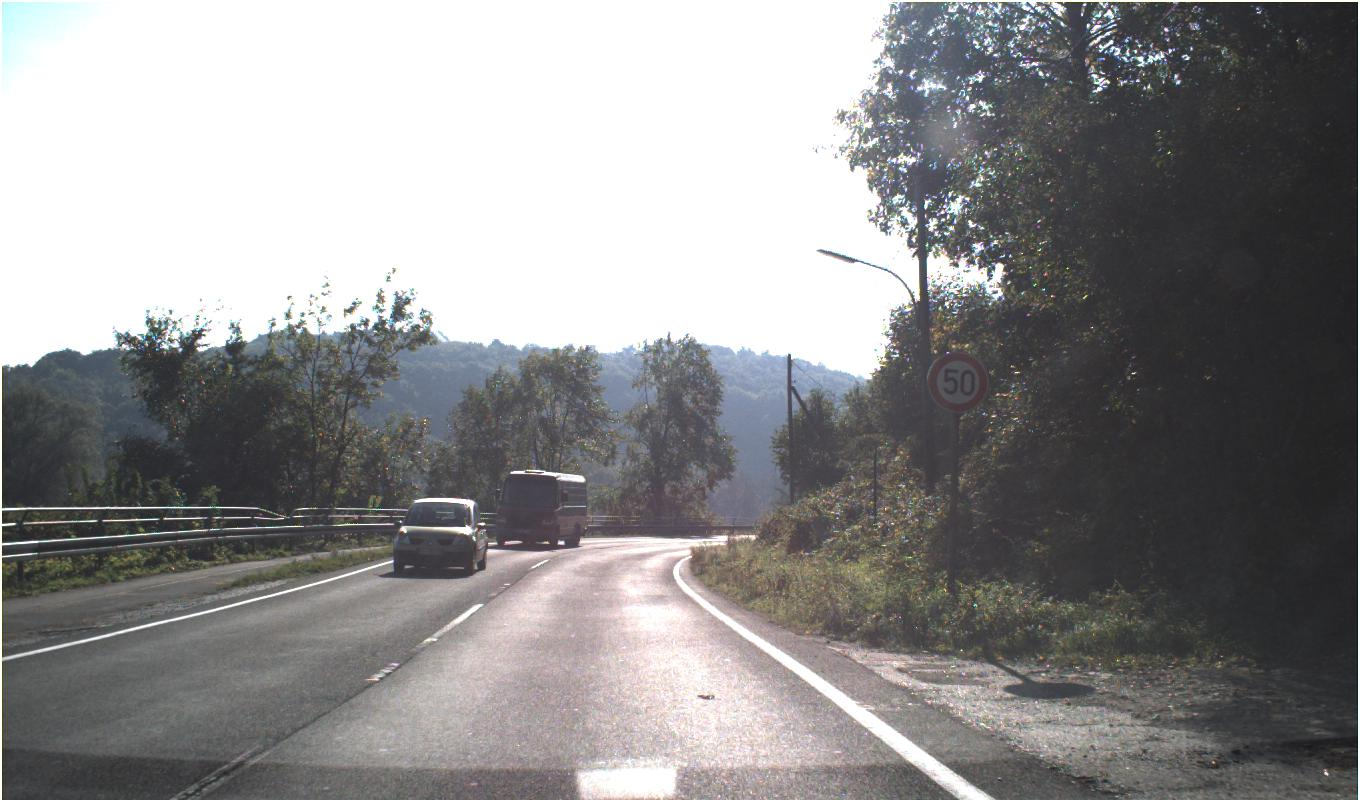prohibitory: (926, 350, 989, 414)
